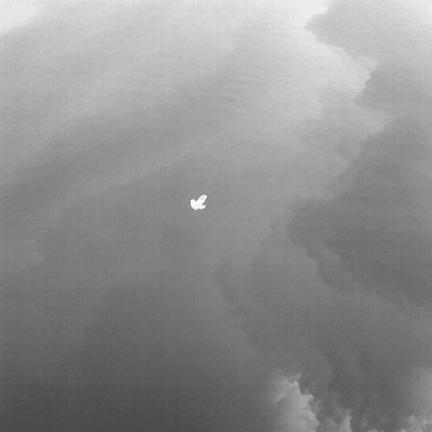flukeprints: (190, 194, 207, 210)
